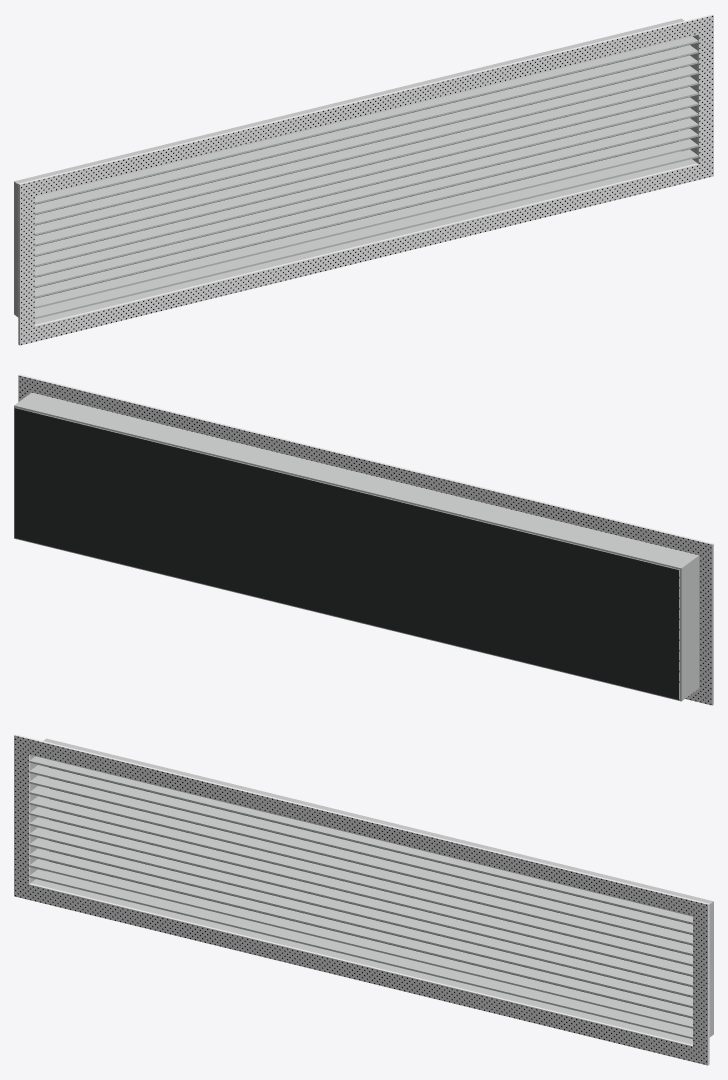
File: ecoclima-ebls-800x150.glb
3 views of the same model, one above another, from view 1: azimuth 30°, elevation 25°; view 2: azimuth 150°, elevation 25°; view 3: azimuth 330°, elevation 25° (orthographic).
Parts seen in each view (by area): view 1: Profile_cornice.004, Profile_cornice.005, Profile_barra.013, Profile_barra.017, Profile_barra.012, Profile_barra.018, Profile_barra.020, Profile_barra.010, Profile_barra.011, Profile_barra.014, Profile_barra.015, Profile_barra.016 (+9 smaller); view 2: Interno.001, Profile_ritorno.004, Profile_cornice.004, Profile_ritorno.006, Profile_cornice.006, Profile_ritorno.005, Profile_barra.020; view 3: Profile_cornice.004, Profile_cornice.005, Profile_barra.013, Profile_barra.017, Profile_barra.012, Profile_barra.018, Profile_barra.020, Profile_barra.010, Profile_barra.011, Profile_barra.014, Profile_barra.015, Profile_barra.016 (+9 smaller).
Part boxes in pixels (<box>): Profile_cornice.004: <box>18,14,713,200</box>; Profile_cornice.005: <box>18,160,713,345</box>; Profile_barra.013: <box>35,118,698,287</box>; Profile_barra.017: <box>35,76,698,245</box>; Profile_barra.012: <box>35,128,698,298</box>; Profile_barra.018: <box>35,66,698,235</box>; Profile_barra.020: <box>35,45,698,214</box>; Profile_barra.010: <box>35,149,698,319</box>; Profile_barra.011: <box>35,139,698,308</box>; Profile_barra.014: <box>35,107,698,277</box>; Profile_barra.015: <box>35,97,698,266</box>; Profile_barra.016: <box>35,87,698,256</box>; Interno.001: <box>14,408,679,699</box>; Profile_ritorno.004: <box>14,392,699,569</box>; Profile_cornice.004: <box>18,374,713,560</box>; Profile_ritorno.006: <box>680,557,699,699</box>; Profile_cornice.006: <box>699,557,713,689</box>; Profile_ritorno.005: <box>14,537,699,701</box>; Profile_barra.020: <box>33,412,679,578</box>; Profile_cornice.004: <box>14,734,709,920</box>; Profile_cornice.005: <box>14,880,709,1065</box>; Profile_barra.013: <box>29,838,692,1007</box>; Profile_barra.017: <box>29,796,692,965</box>; Profile_barra.012: <box>29,848,692,1018</box>; Profile_barra.018: <box>29,786,692,955</box>; Profile_barra.020: <box>29,765,692,934</box>; Profile_barra.010: <box>29,869,692,1039</box>; Profile_barra.011: <box>29,859,692,1028</box>; Profile_barra.014: <box>29,827,692,997</box>; Profile_barra.015: <box>29,817,692,986</box>; Profile_barra.016: <box>29,807,692,976</box>.
Size of the model in its own units: 0.835 by 0.185 by 0.042.
3 materials, 1 textured.
